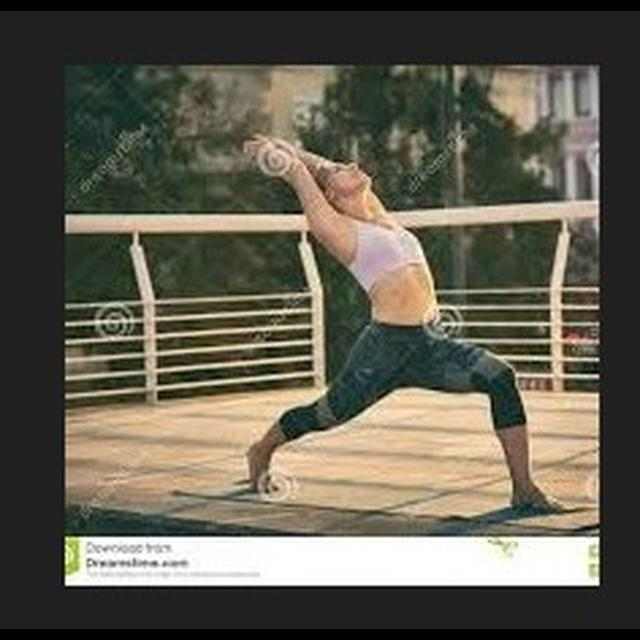Warrior_I: (235, 126, 574, 519)
